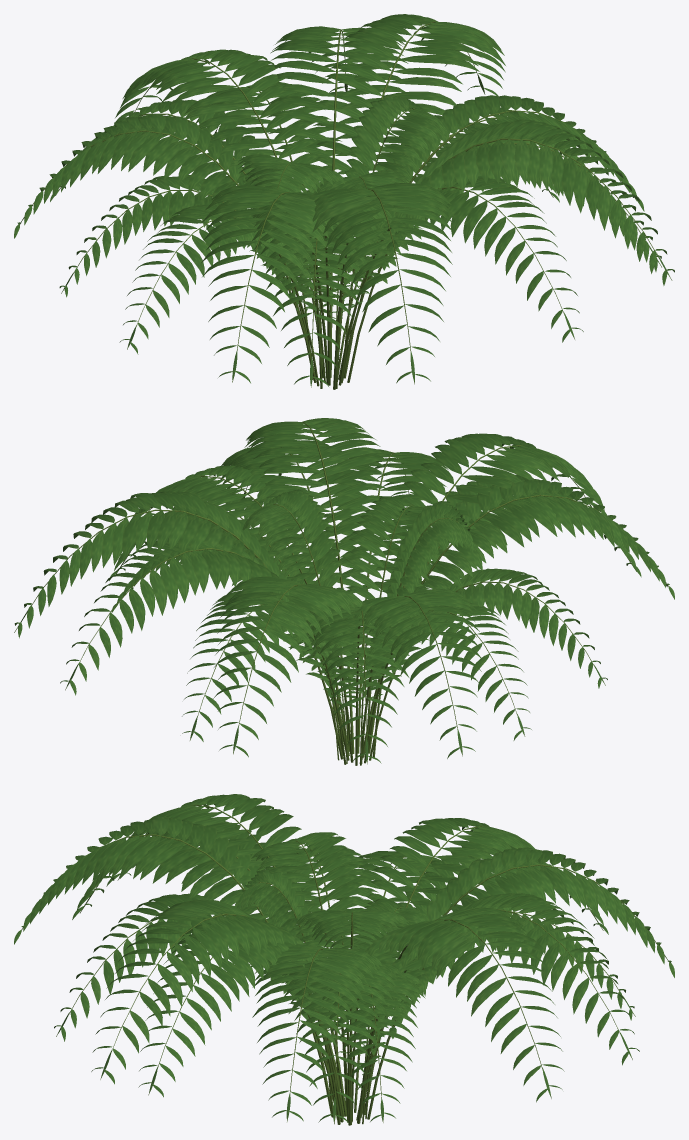
File: fern.glb
3 renders of one model, top to bottom at view 1: azimuth 30°, elevation 25°; view 2: azimuth 150°, elevation 25°; view 3: azimuth 270°, elevation 25°, orthographic. The views are drawn at different scales.
Visible parts, largest first — view 1: Foliage, Stems; view 2: Foliage, Stems; view 3: Foliage, Stems.
Part boxes in pixels (x1,y1,x2,y2): Foliage: [14, 14, 674, 386]; Stems: [20, 21, 672, 389]; Foliage: [14, 418, 674, 763]; Stems: [14, 421, 668, 765]; Foliage: [14, 794, 674, 1123]; Stems: [22, 804, 668, 1125].
Size of the model in its own units: 1.38 by 0.7 by 1.59.
Materials: 2 (1 with a texture image).
